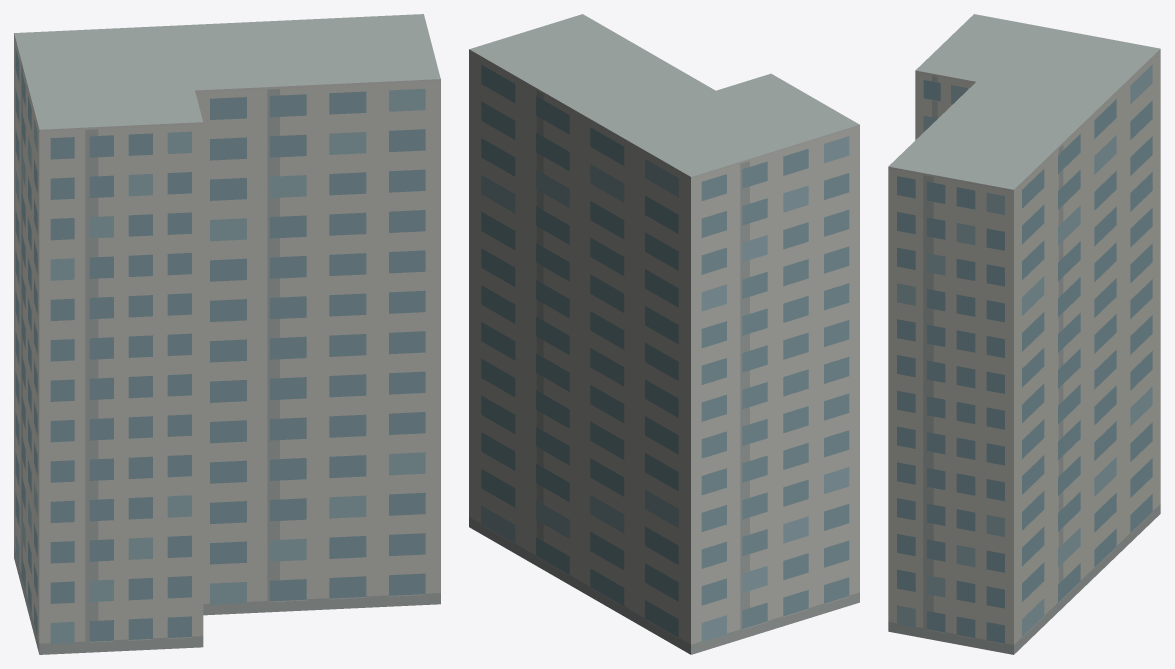
The model's file is residential-8f5e1eb5-c0fc-43ca-b67f-de4e8a9f0922.glb.
3 views of the same model, side by side, from view 1: azimuth 30°, elevation 25°; view 2: azimuth 150°, elevation 25°; view 3: azimuth 270°, elevation 25° (orthographic). The views are drawn at different scales.
Parts seen in each view (by area): view 1: residential-8f5e1eb5-c0fc-43ca-b67f-de4e8a9f0922.tmp; view 2: residential-8f5e1eb5-c0fc-43ca-b67f-de4e8a9f0922.tmp; view 3: residential-8f5e1eb5-c0fc-43ca-b67f-de4e8a9f0922.tmp.
Part boxes in pixels (box(x1,y1,x2,y2)): residential-8f5e1eb5-c0fc-43ca-b67f-de4e8a9f0922.tmp: box(14, 14, 440, 654); residential-8f5e1eb5-c0fc-43ca-b67f-de4e8a9f0922.tmp: box(469, 14, 859, 654); residential-8f5e1eb5-c0fc-43ca-b67f-de4e8a9f0922.tmp: box(888, 14, 1160, 654).
Bounding box in the file's own units: 43.8 × 54 × 28.68.
